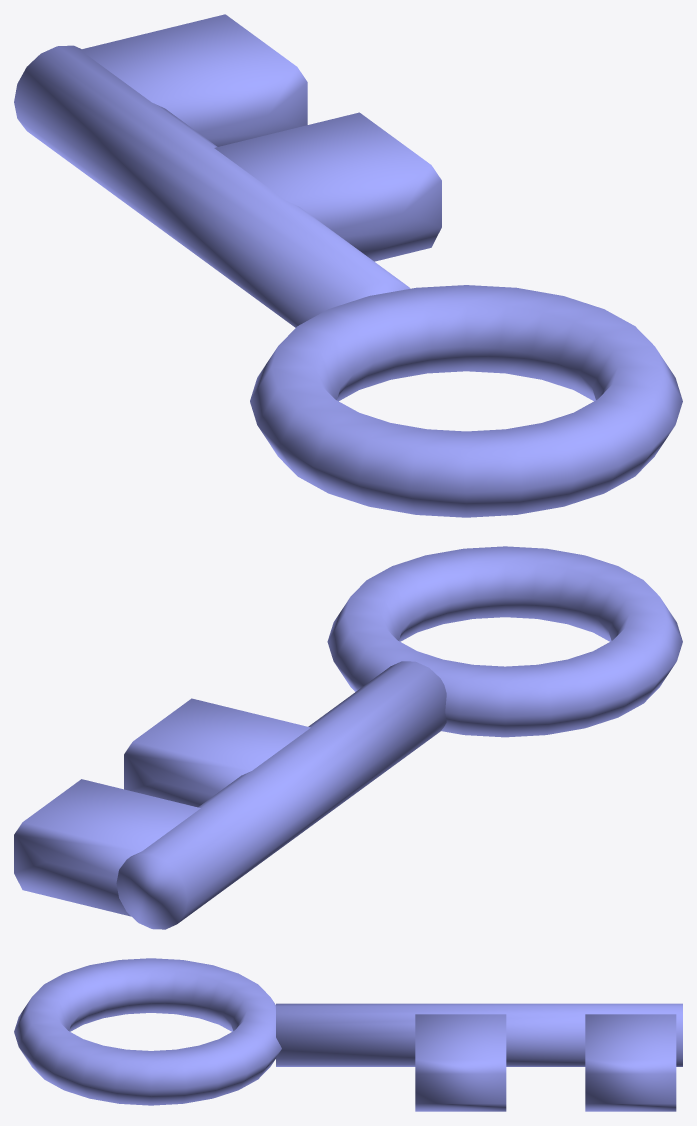
Rendered from Llave Azul.fbx.
The picture shows the model from 3 angles, top to bottom: view 1: azimuth 30°, elevation 25°; view 2: azimuth 150°, elevation 25°; view 3: azimuth 270°, elevation 25°; orthographic projection. The views are drawn at different scales.
Parts seen in each view (by area): view 1: Cube.060; view 2: Cube.060; view 3: Cube.060.
Boxes of the visible parts, left/top/right/bottom form: Cube.060: left=14, top=14, right=682, bottom=517; Cube.060: left=14, top=546, right=682, bottom=929; Cube.060: left=14, top=958, right=682, bottom=1111.
Size of the model in its own units: 17 by 3.93 by 41.46.
